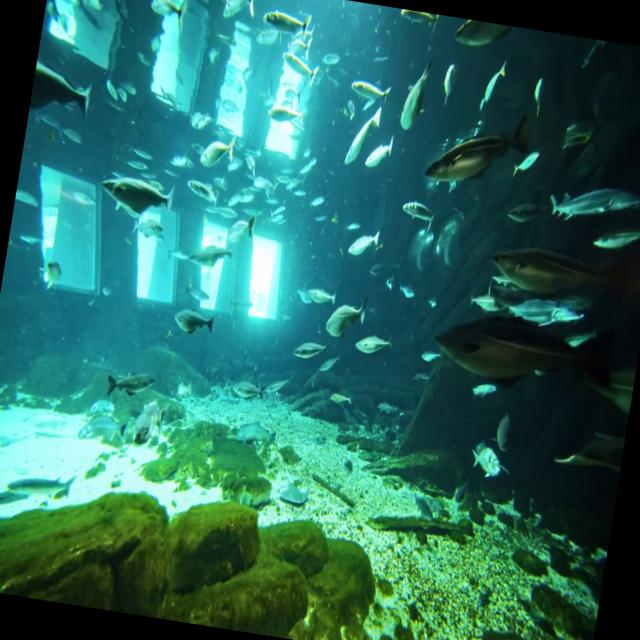fish: (423, 286, 621, 419), (421, 100, 533, 203), (485, 232, 606, 311), (547, 157, 640, 235), (503, 278, 597, 339), (90, 170, 175, 234), (333, 98, 391, 182), (29, 62, 104, 124), (0, 453, 78, 512), (182, 123, 245, 187), (392, 56, 436, 142), (448, 18, 513, 76), (247, 0, 324, 46), (322, 284, 382, 342), (100, 359, 162, 415), (463, 427, 519, 487), (590, 201, 640, 263), (160, 292, 217, 345), (472, 42, 513, 112), (344, 322, 401, 368), (346, 65, 407, 106), (428, 50, 464, 116), (203, 0, 265, 37), (516, 66, 554, 126), (318, 380, 365, 428), (274, 44, 324, 89), (30, 248, 74, 296), (256, 100, 310, 138), (304, 270, 350, 314), (287, 324, 326, 372), (135, 0, 190, 32), (492, 406, 530, 452), (506, 139, 543, 184), (390, 8, 440, 39), (461, 376, 504, 412), (360, 134, 397, 174), (465, 286, 508, 320)
